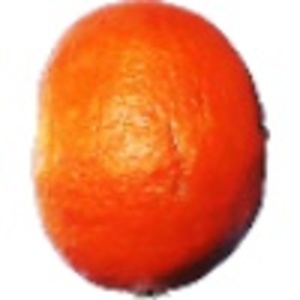tangerina: (29, 1, 271, 300)
